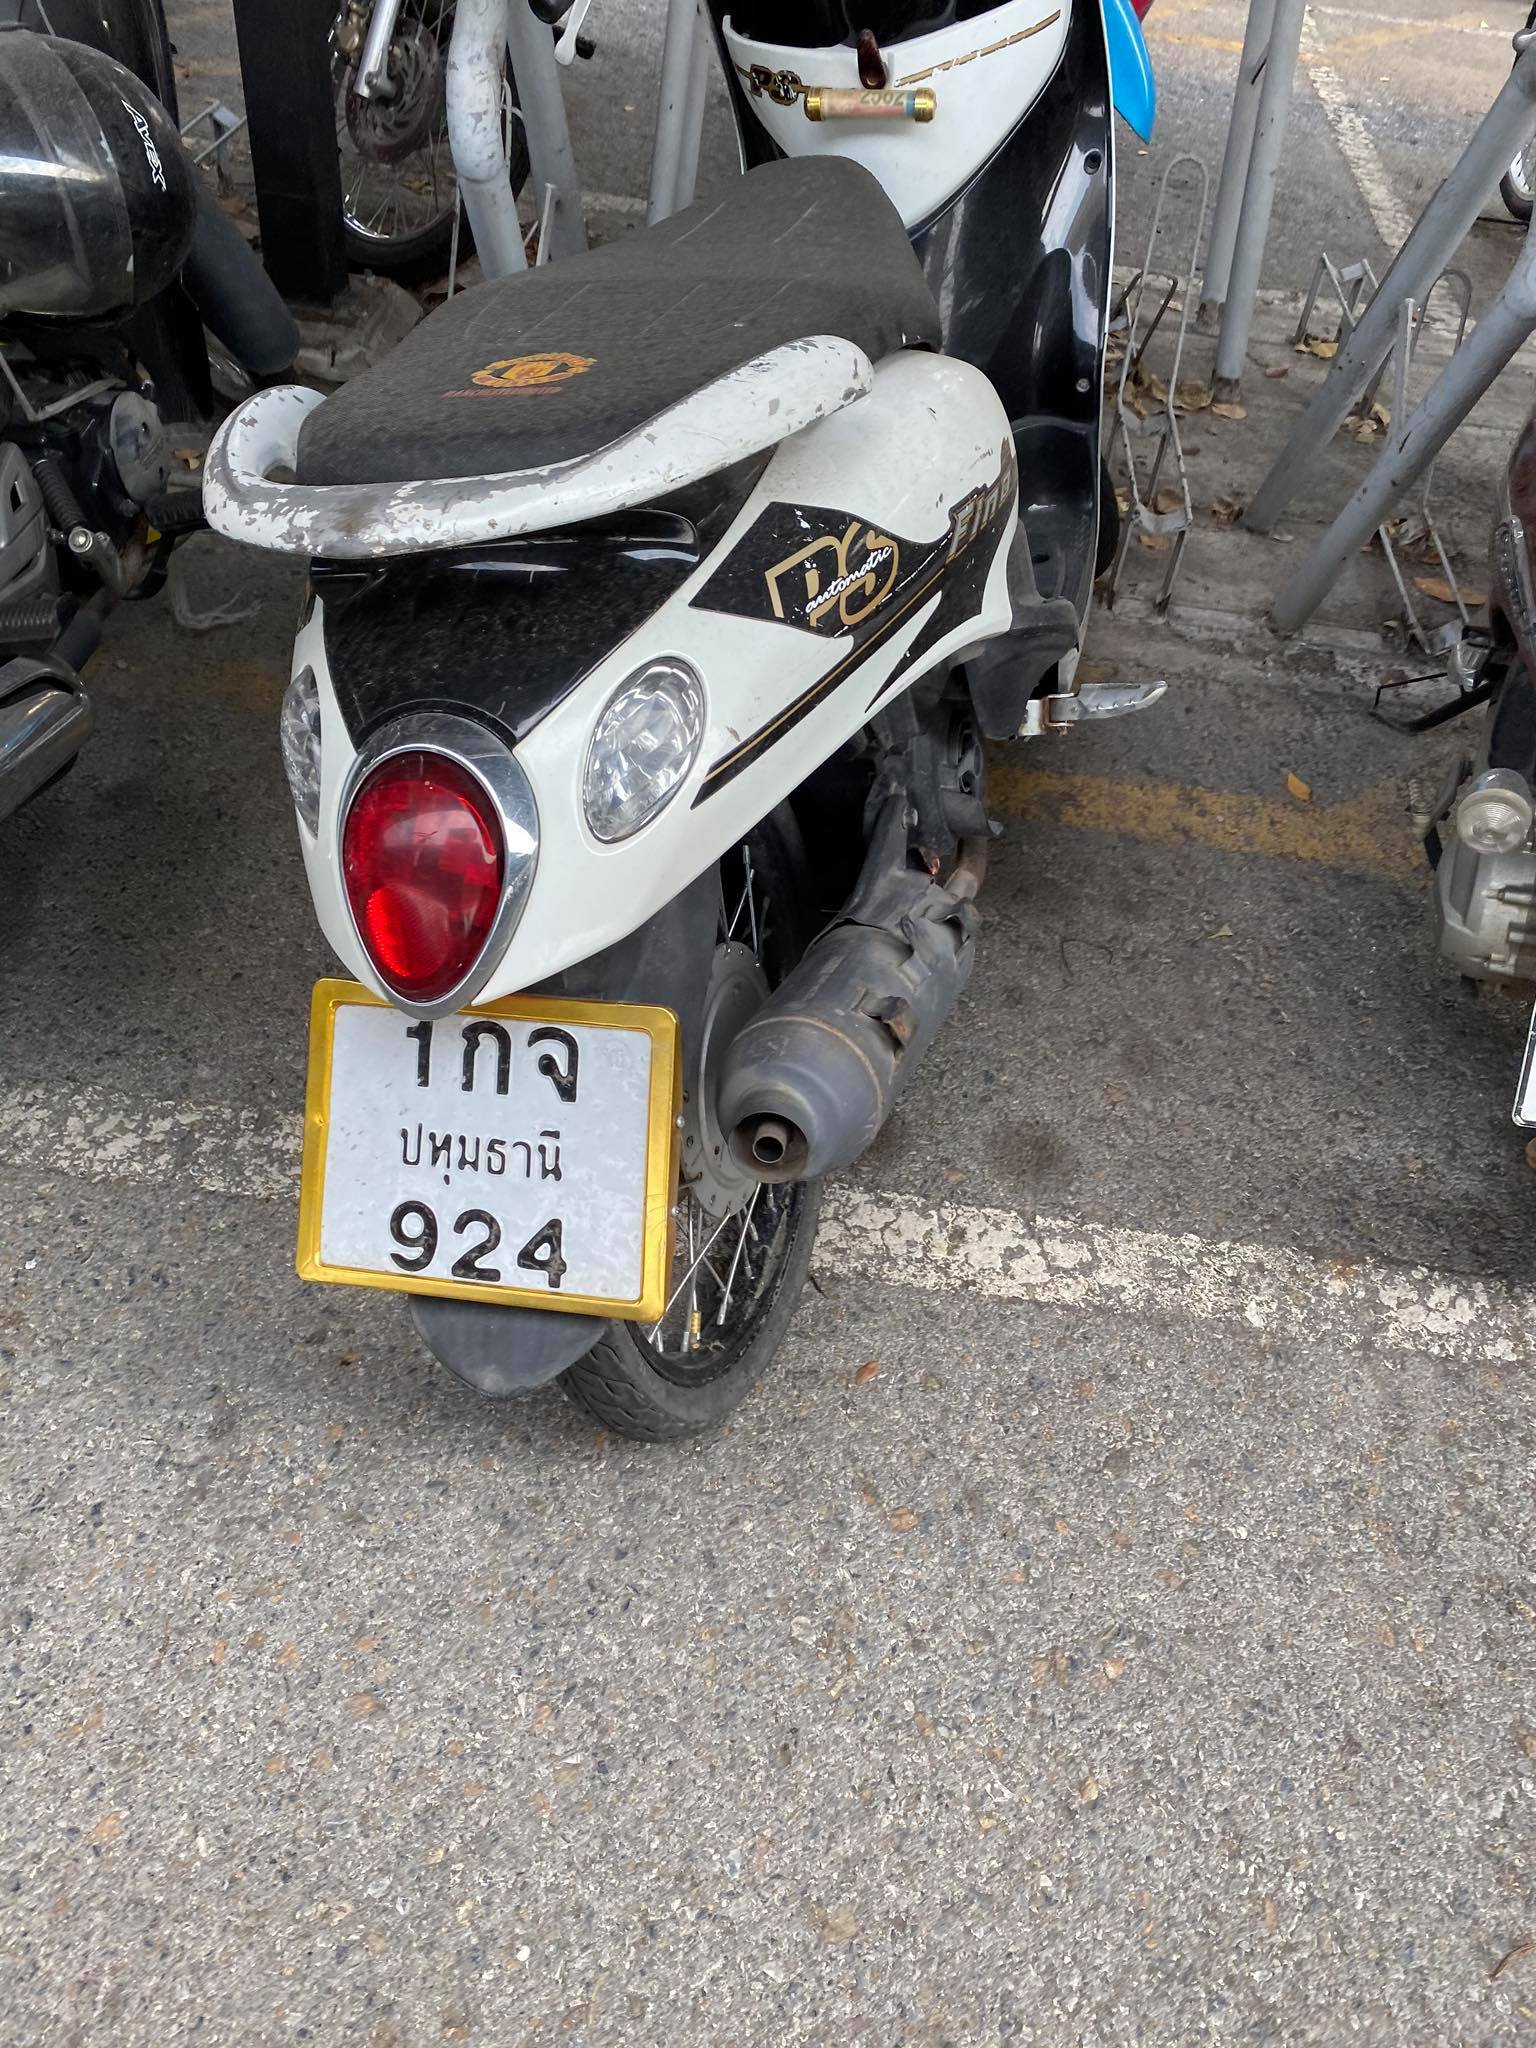line1: (386, 1011, 597, 1105)
line2: (382, 1114, 574, 1188)
line3: (387, 1192, 586, 1292)
